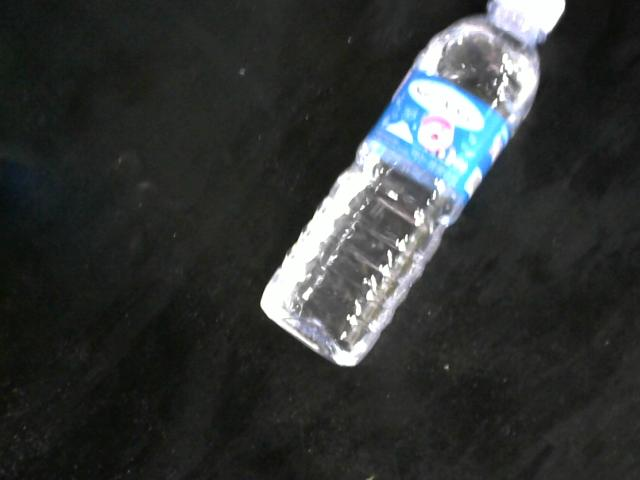bottle: (257, 0, 567, 369)
